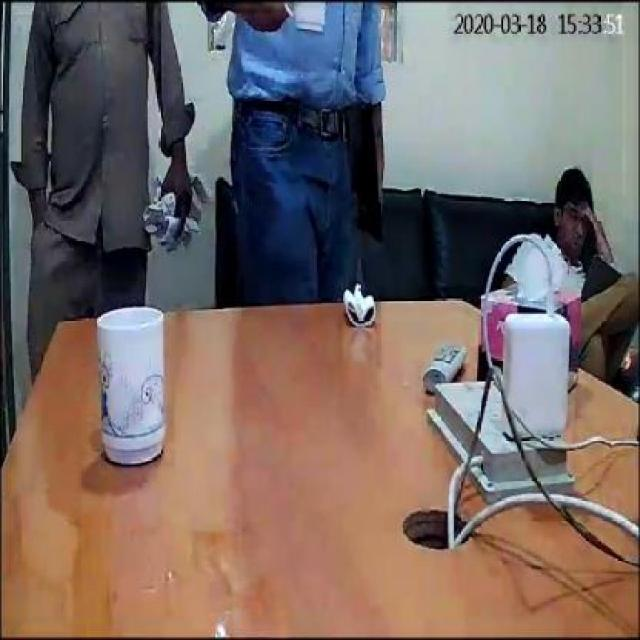spill: (9, 486, 286, 626)
